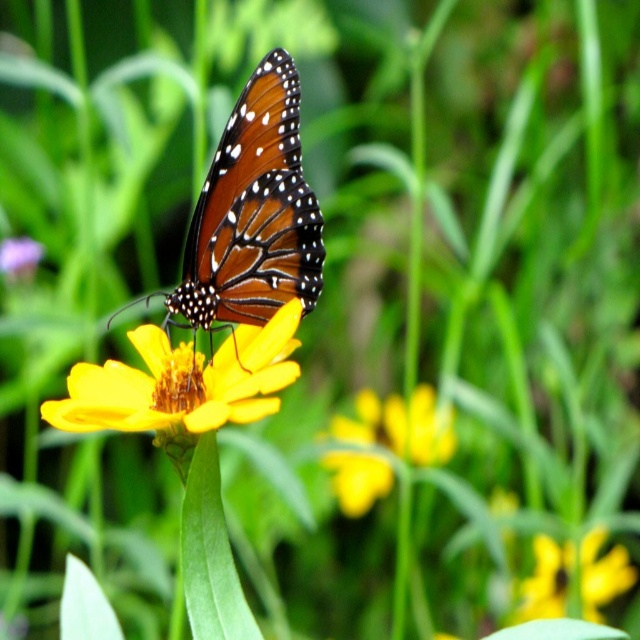Butterfly: (108, 46, 327, 392)
